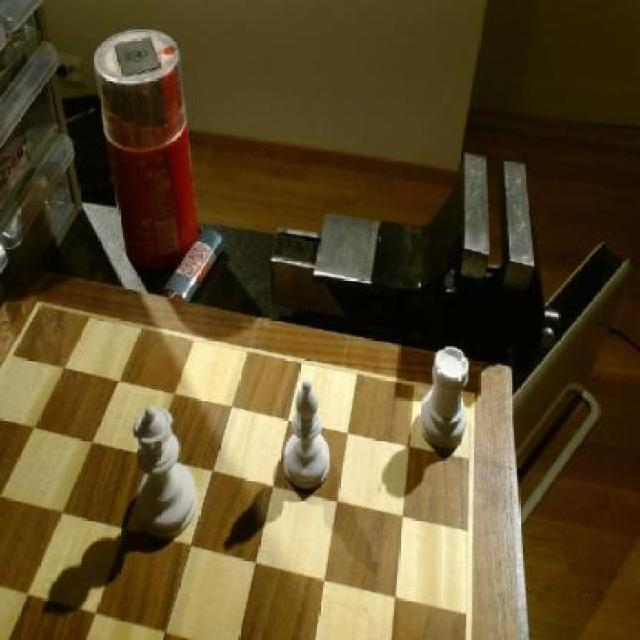black-rook: (282, 378, 336, 497)
white-pawn: (129, 403, 201, 542)
white-queen: (417, 341, 476, 454)
